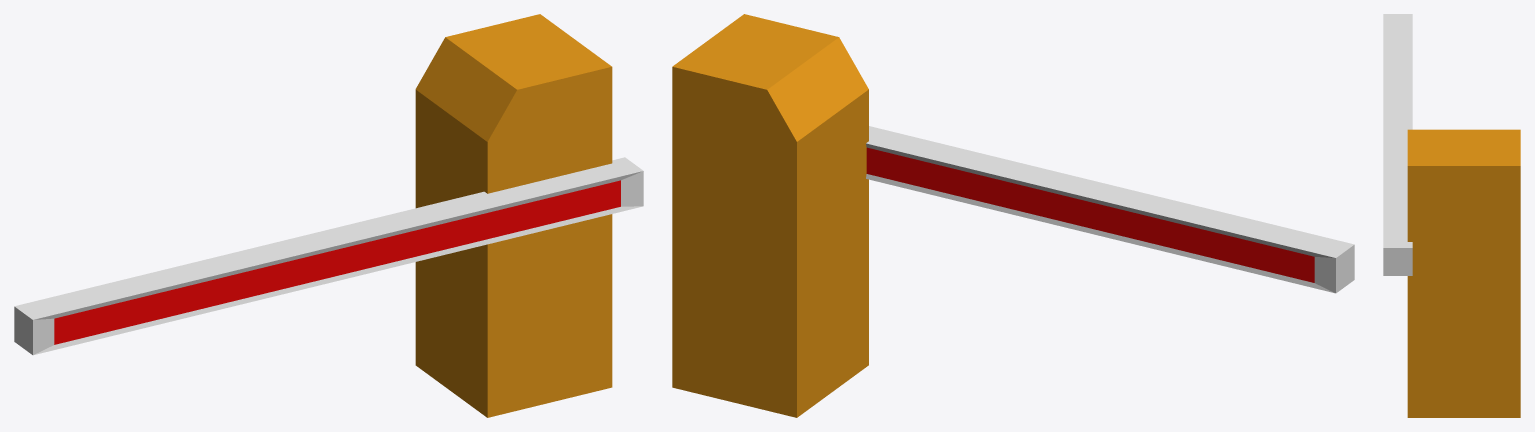
The model's file is mini_pedagio.fbx.
3 views of the same model, side by side, from view 1: azimuth 30°, elevation 25°; view 2: azimuth 150°, elevation 25°; view 3: azimuth 270°, elevation 25° (orthographic). The views are drawn at different scales.
Visible parts, largest first — view 1: mini_pedagio; view 2: mini_pedagio; view 3: mini_pedagio.
Part boxes in pixels (x1,y1,x2,y2): mini_pedagio: (14, 14, 643, 417); mini_pedagio: (672, 14, 1354, 417); mini_pedagio: (1383, 14, 1520, 417).
Size of the model in its own units: 255 by 128 by 63.39.
